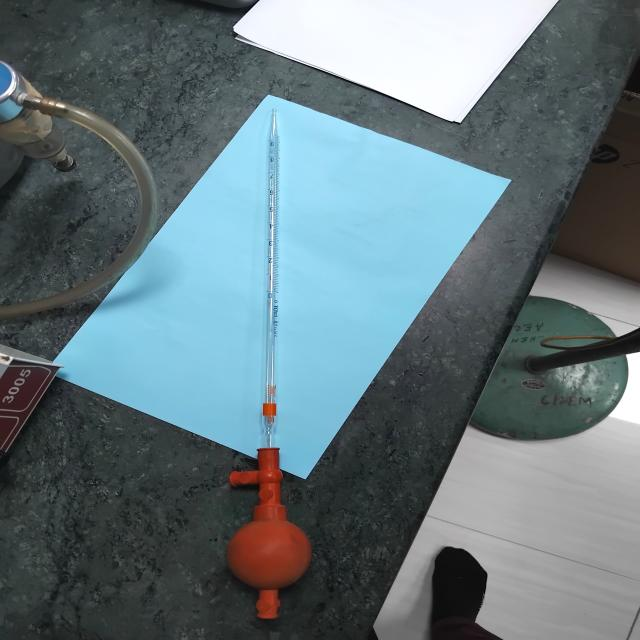Volumetric_Pipet: (206, 89, 338, 636)
